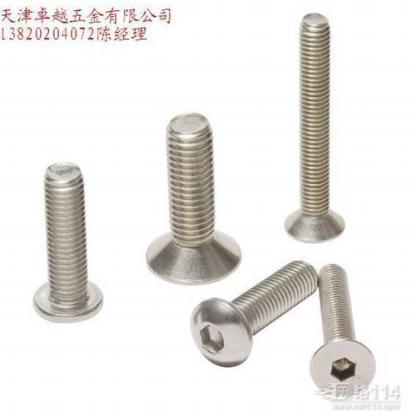FOD: (144, 112, 244, 286), (282, 12, 349, 242), (187, 257, 321, 367), (30, 160, 106, 324), (308, 263, 378, 398)
